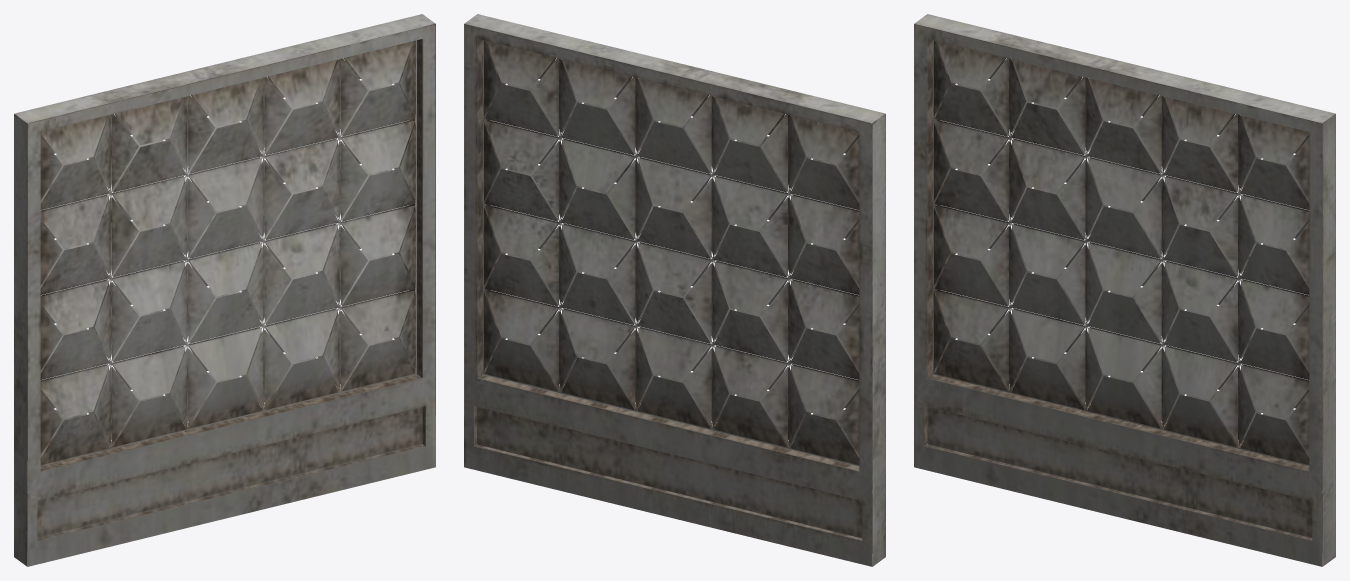
The model's file is concrete_fence.glb.
3 views of the same model, side by side, from view 1: azimuth 30°, elevation 25°; view 2: azimuth 150°, elevation 25°; view 3: azimuth 330°, elevation 25° (orthographic).
Parts seen in each view (by area): view 1: Object_2; view 2: Object_2; view 3: Object_2.
Boxes of the visible parts, x1=… form: Object_2: x1=14, y1=14, x2=435, y2=566; Object_2: x1=464, y1=14, x2=885, y2=566; Object_2: x1=914, y1=14, x2=1335, y2=566.
Size of the model in its own units: 2.41 by 2.5 by 0.1376.
1 material, 1 textured.
